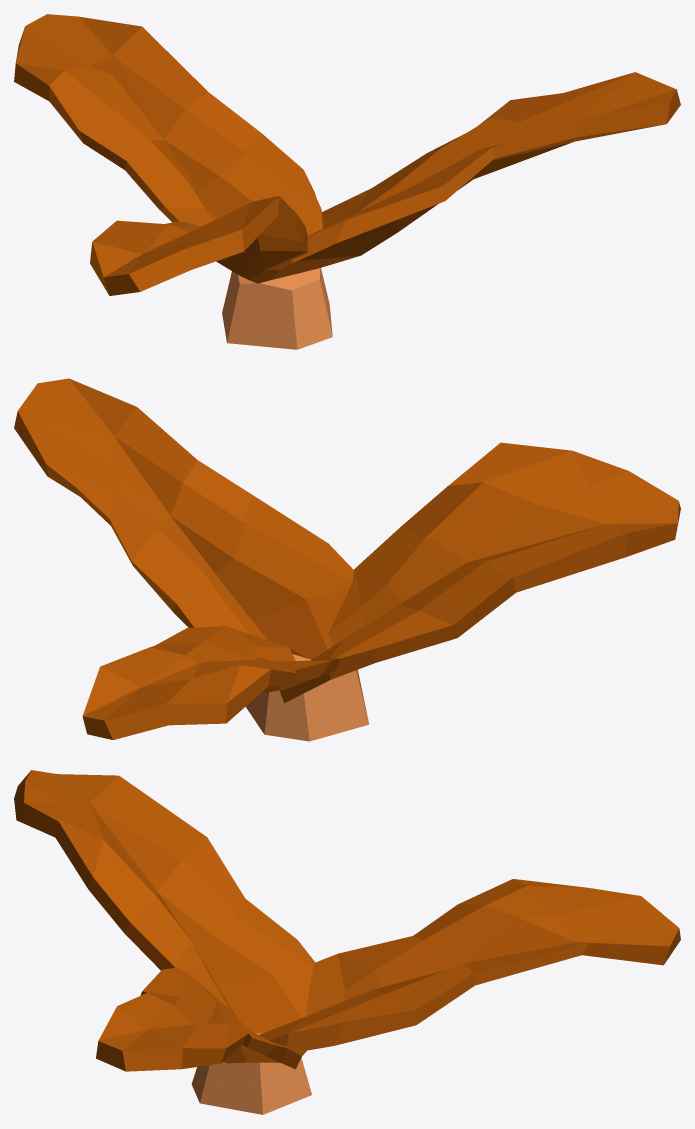
File: Broccoli_S_Dead.fbx
The picture shows the model from 3 angles, top to bottom: view 1: azimuth 30°, elevation 25°; view 2: azimuth 150°, elevation 25°; view 3: azimuth 270°, elevation 25°; orthographic projection.
Parts seen in each view (by area): view 1: Broccoli_S_Died; view 2: Broccoli_S_Died; view 3: Broccoli_S_Died.
Part boxes in pixels (left/top/right/bottom): Broccoli_S_Died: left=14, top=14, right=680, bottom=349; Broccoli_S_Died: left=14, top=378, right=680, bottom=741; Broccoli_S_Died: left=14, top=770, right=680, bottom=1114.
Bounding box in the file's own units: 25.84 × 9.04 × 24.65.
